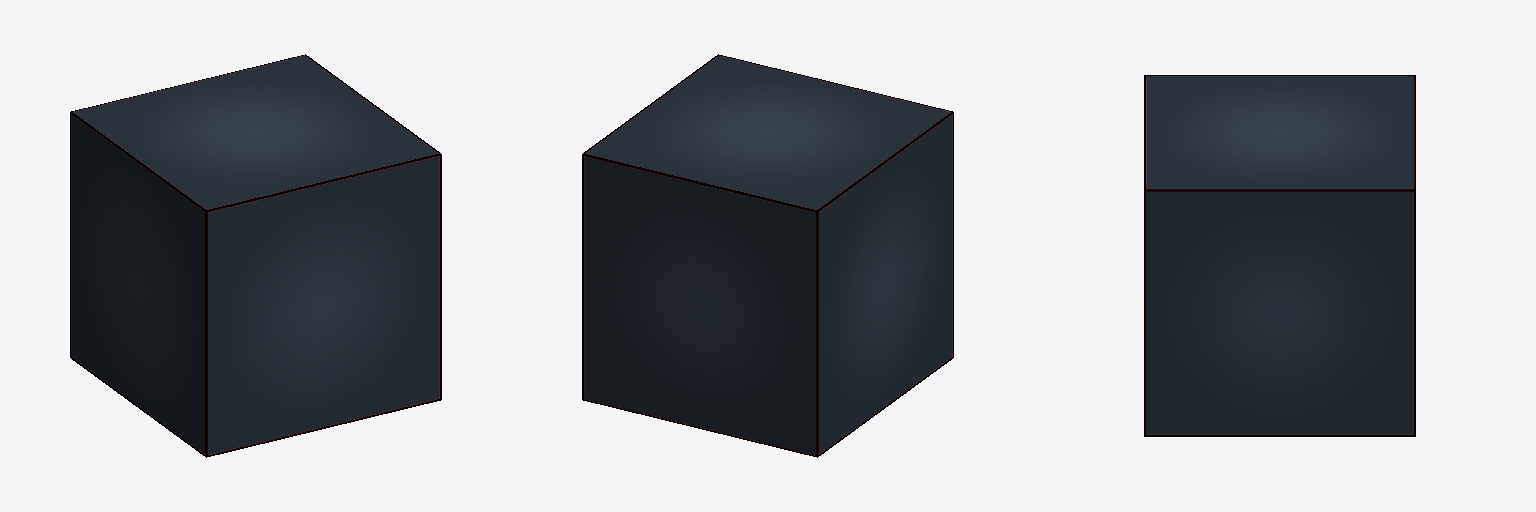
3 views of the same model, side by side, from view 1: azimuth 30°, elevation 25°; view 2: azimuth 150°, elevation 25°; view 3: azimuth 270°, elevation 25° (orthographic).
Bounding box in the file's own units: 1 × 1 × 1.
1 materials, 1 textured.